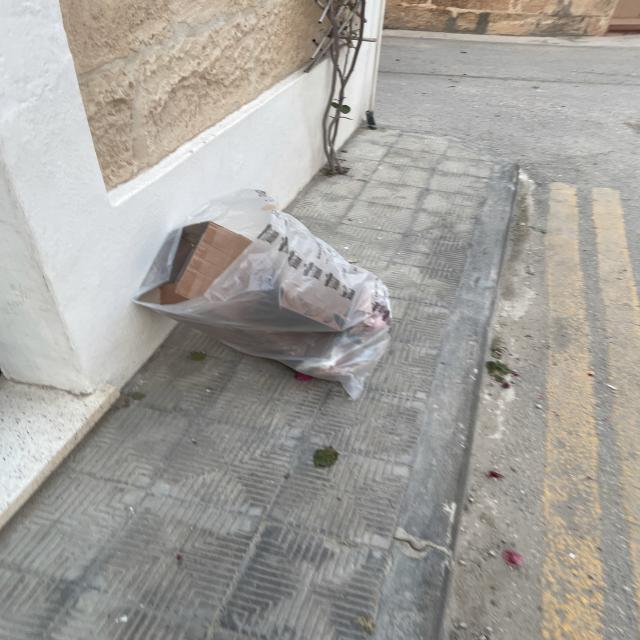grey_bag: (127, 182, 406, 400)
